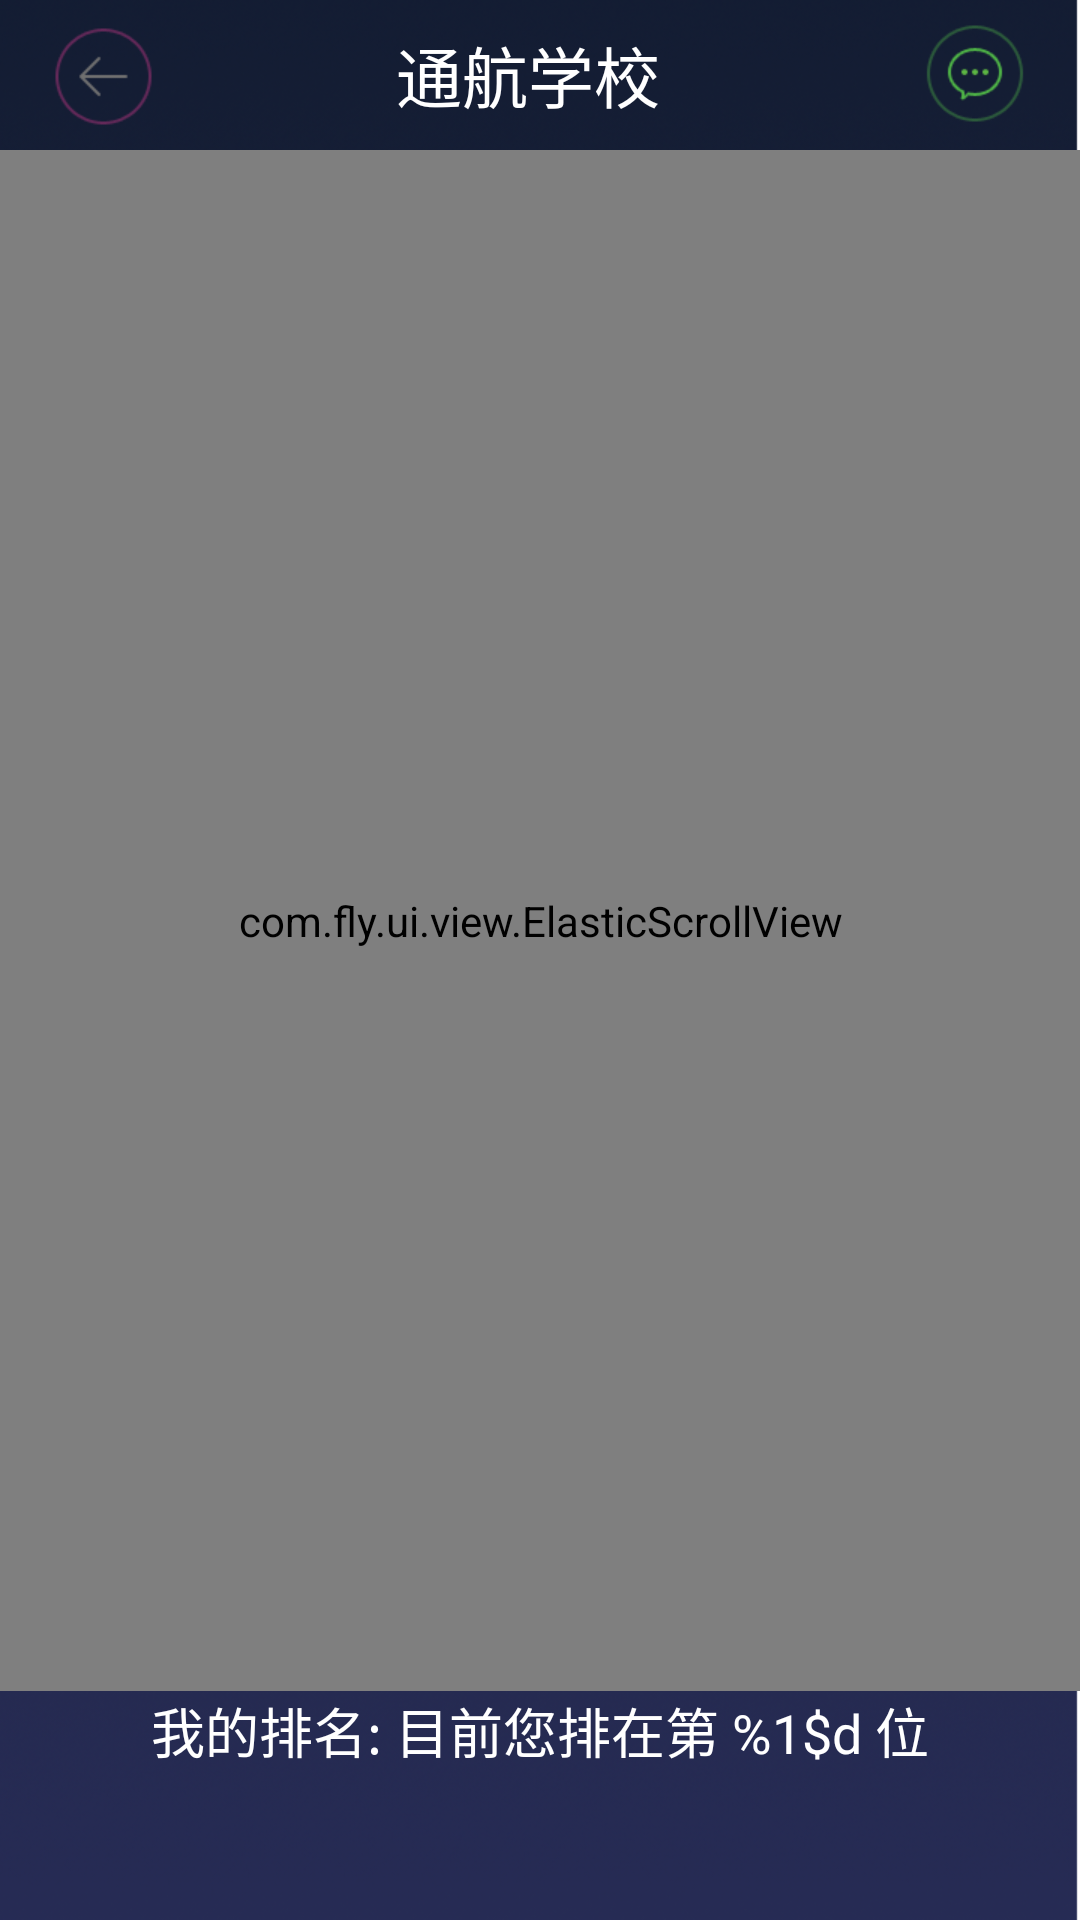

Icons on this 1080x1920 Android screen, each with its box as (x1, y1, x2, y2):
back: (55, 28, 152, 125)
